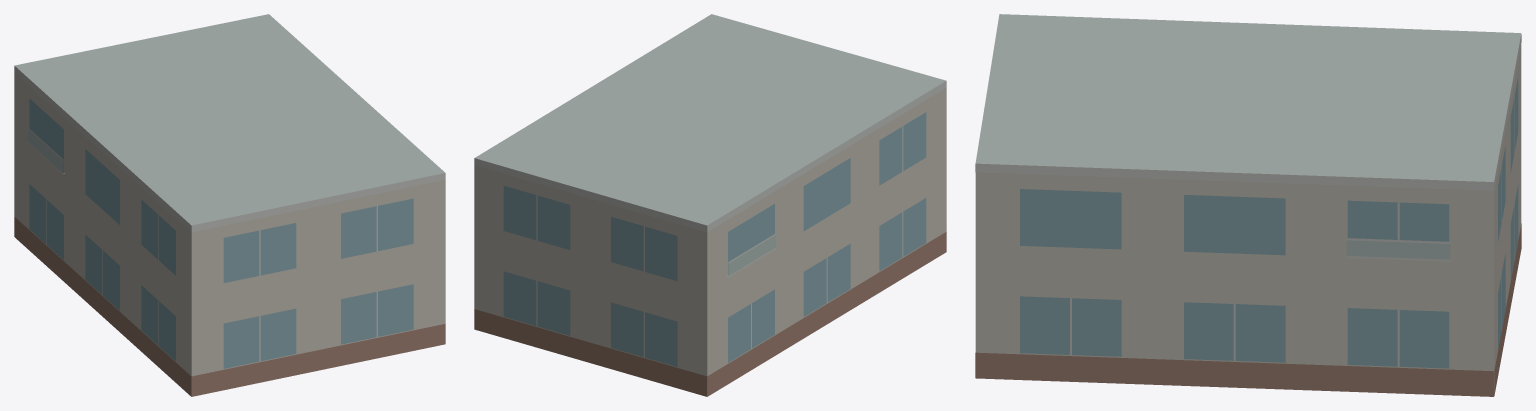
The model's file is survey-upis-33002595.glb.
3 renders of one model, left to right at view 1: azimuth 30°, elevation 25°; view 2: azimuth 150°, elevation 25°; view 3: azimuth 270°, elevation 25°, orthographic. The views are drawn at different scales.
Parts seen in each view (by area): view 1: survey-upis-33002595.tmp; view 2: survey-upis-33002595.tmp; view 3: survey-upis-33002595.tmp.
Part boxes in pixels (bbox=[...]): survey-upis-33002595.tmp: bbox=[14, 14, 445, 396]; survey-upis-33002595.tmp: bbox=[474, 14, 946, 396]; survey-upis-33002595.tmp: bbox=[975, 14, 1521, 396].
Bounding box in the file's own units: 10.25 × 6.1 × 14.07.
